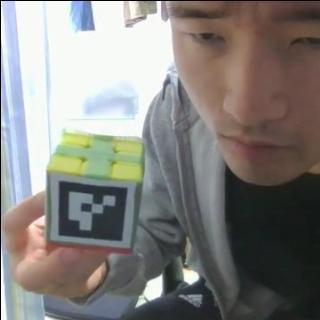armor: (48, 171, 134, 247)
robot: (42, 130, 144, 253)
